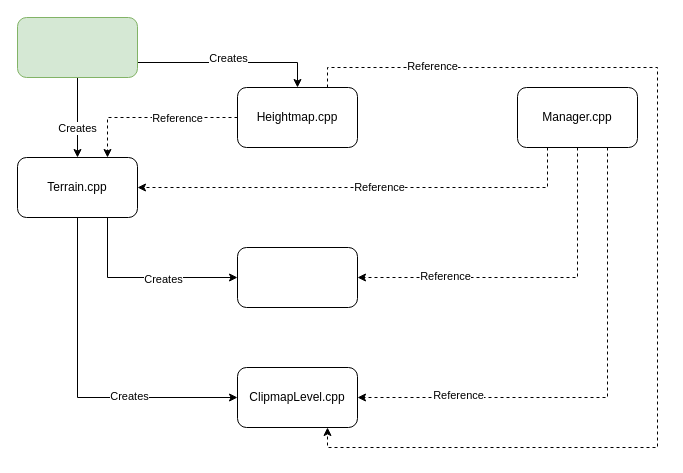
Image size: 683x473. Some labels were removed from this diagram. The centre of each missing label's shape, as x and y in pixels:
"Footprint.cpp" goes at [297,277].
"NGLScene.cpp" goes at [77,47].
